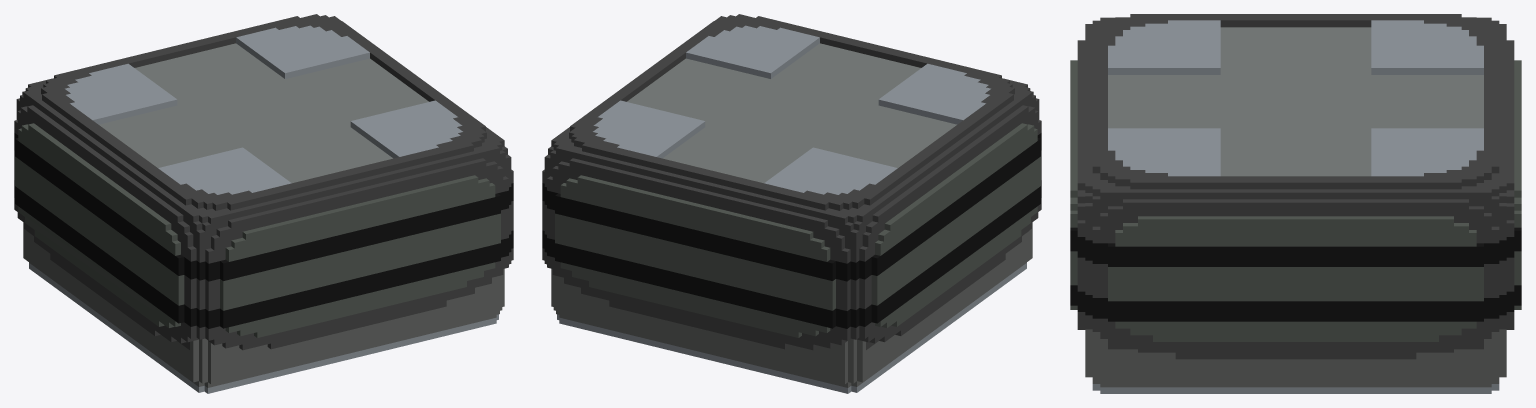
File: Ash_Level2_Platform_3.fbx
3 views of the same model, side by side, from view 1: azimuth 30°, elevation 25°; view 2: azimuth 150°, elevation 25°; view 3: azimuth 270°, elevation 25° (orthographic). The views are drawn at different scales.
Parts seen in each view (by area): view 1: Ash_Level2_Platform_3; view 2: Ash_Level2_Platform_3; view 3: Ash_Level2_Platform_3.
Part boxes in pixels (x1,y1,x2,y2): Ash_Level2_Platform_3: (14,14,513,393); Ash_Level2_Platform_3: (542,14,1041,393); Ash_Level2_Platform_3: (1070,14,1521,393).
Size of the model in its own units: 600 by 310 by 590.
1 material, 1 textured.
